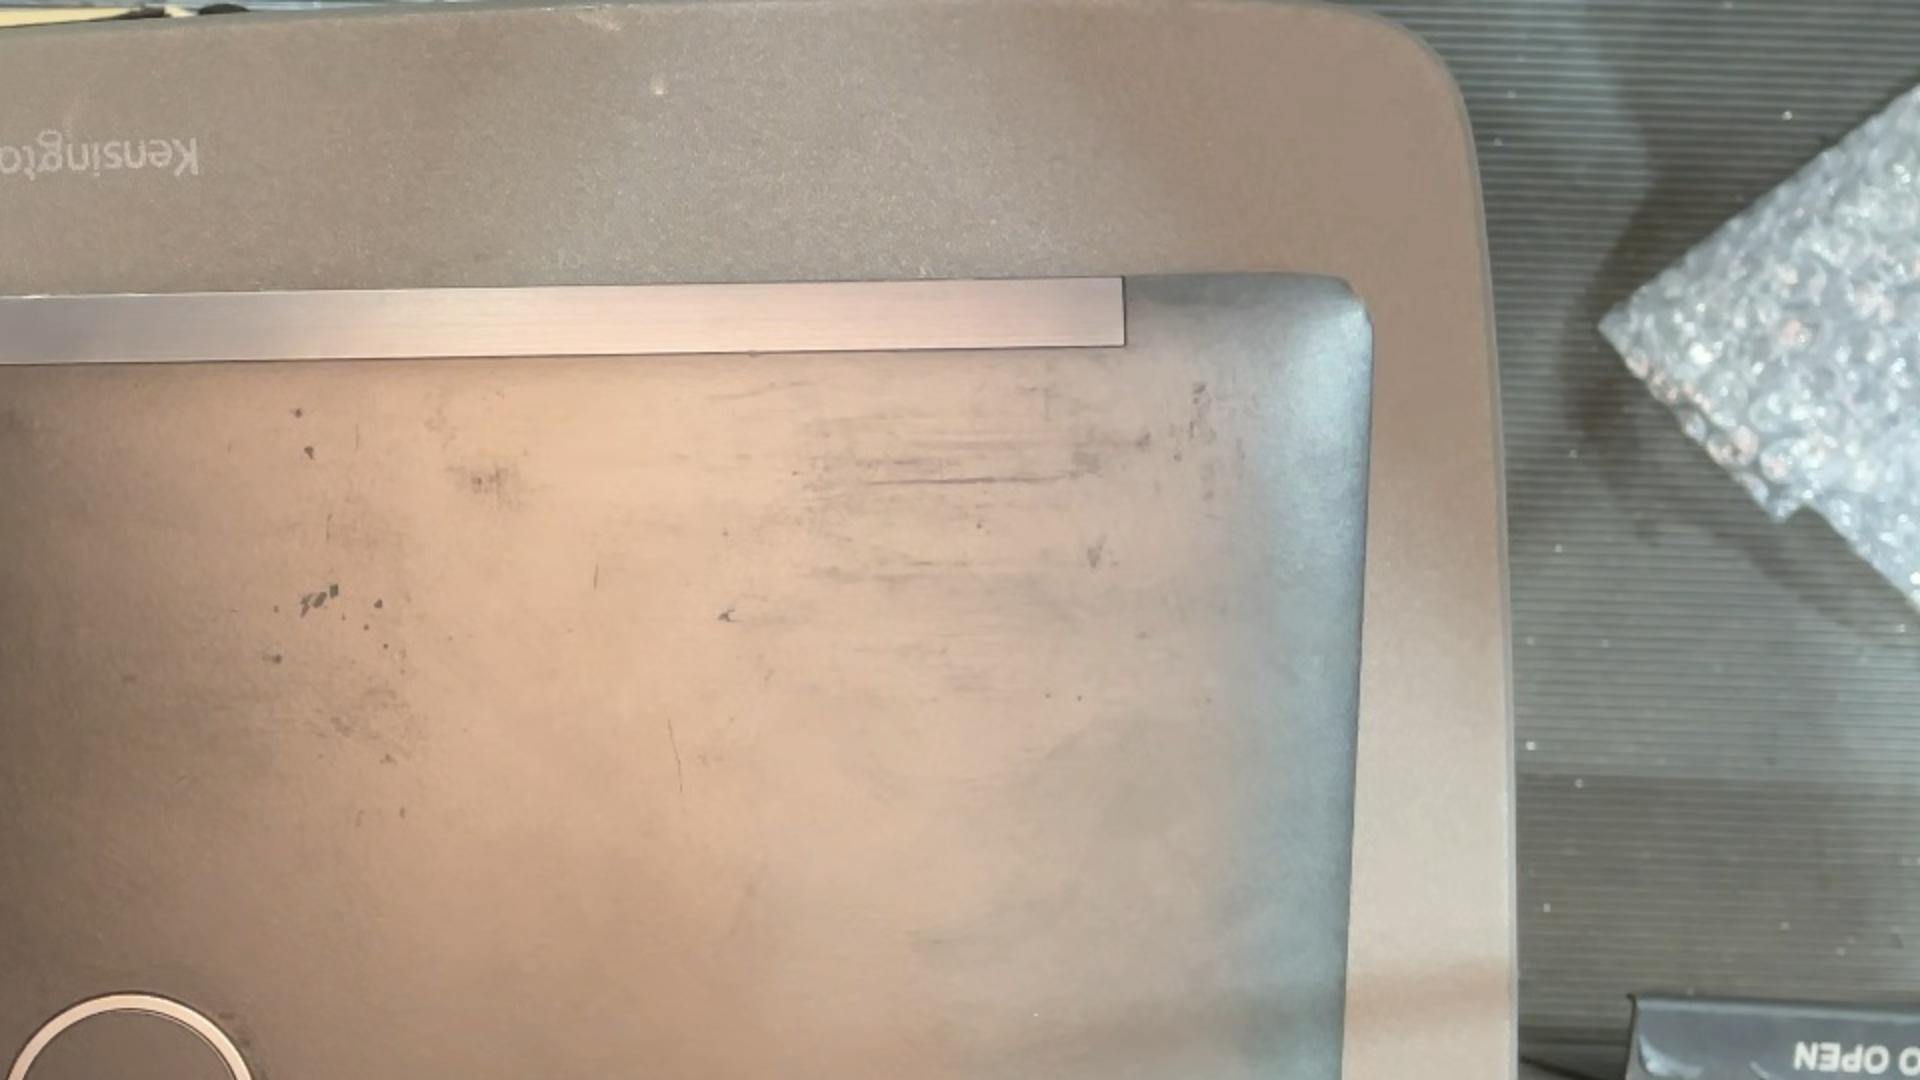chip: (716, 607, 740, 622)
scratches: (665, 713, 686, 795), (592, 558, 600, 592)
